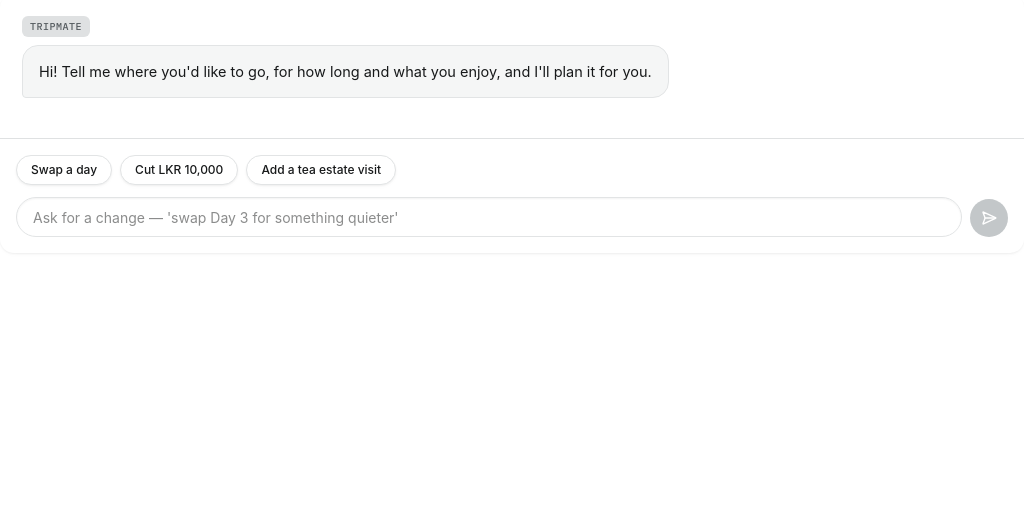
Test: ChatPanel › when the request fails › Retry resends the same message without duplicating it
The image size is (1024, 512).
In the text box named "Message": (489, 218) [16,198,962,238], type "Plan my trip"
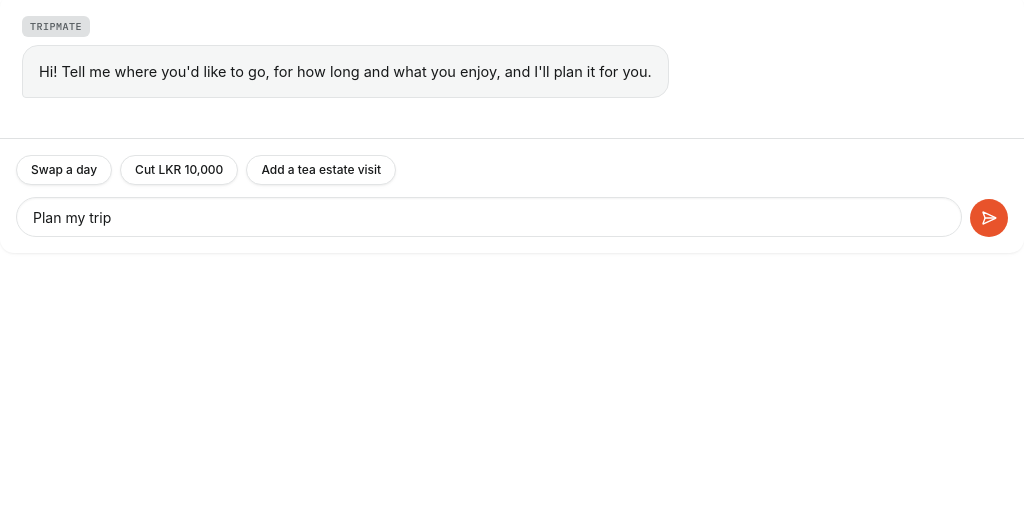
Press Enter in the text box named "Message", box [16,198,962,238]
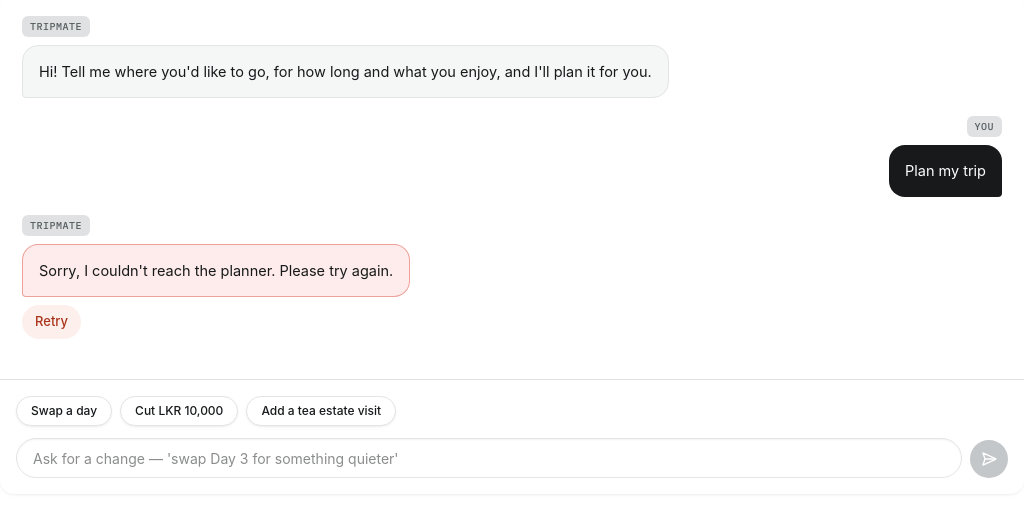
Click the button "Retry": (52, 322) [22,306,81,339]
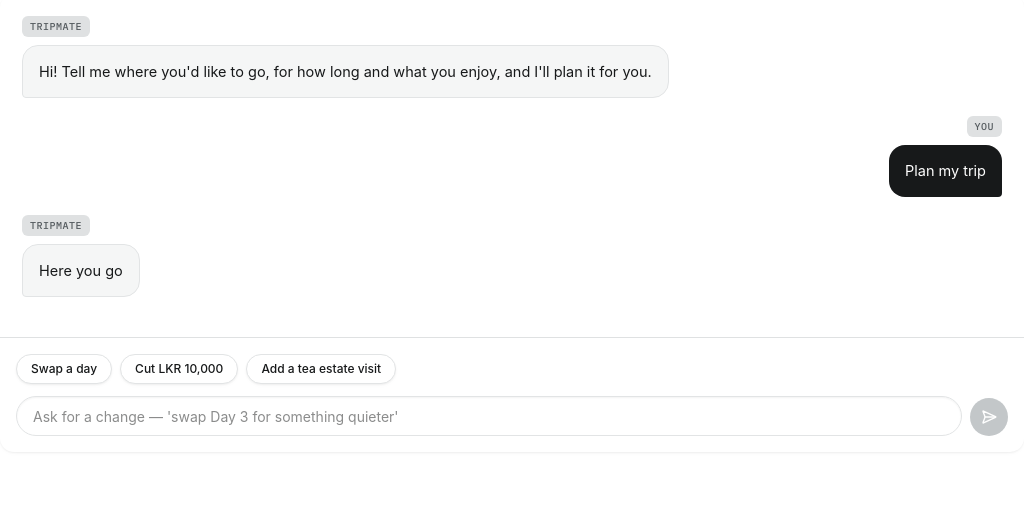
Expected: the text "Plan my trip" is shown once, [905,160,986,183]
Expected: the text "Sorry, I couldn't reach the planner. Please try again." is gone
Expected: the text "Here you go" is shown, [39,259,123,282]
